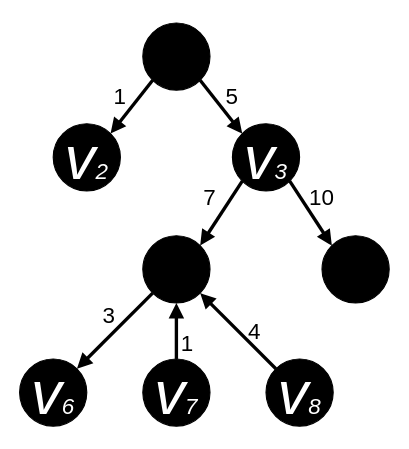
Some shapes in this 409 by 449 pixel diagram are drawn without their labels. Here are the shapes that lost their labels. From the top down, the centre of each, then its label:
point 176,56: v 1
point 176,269: v 4
point 355,269: v 5
